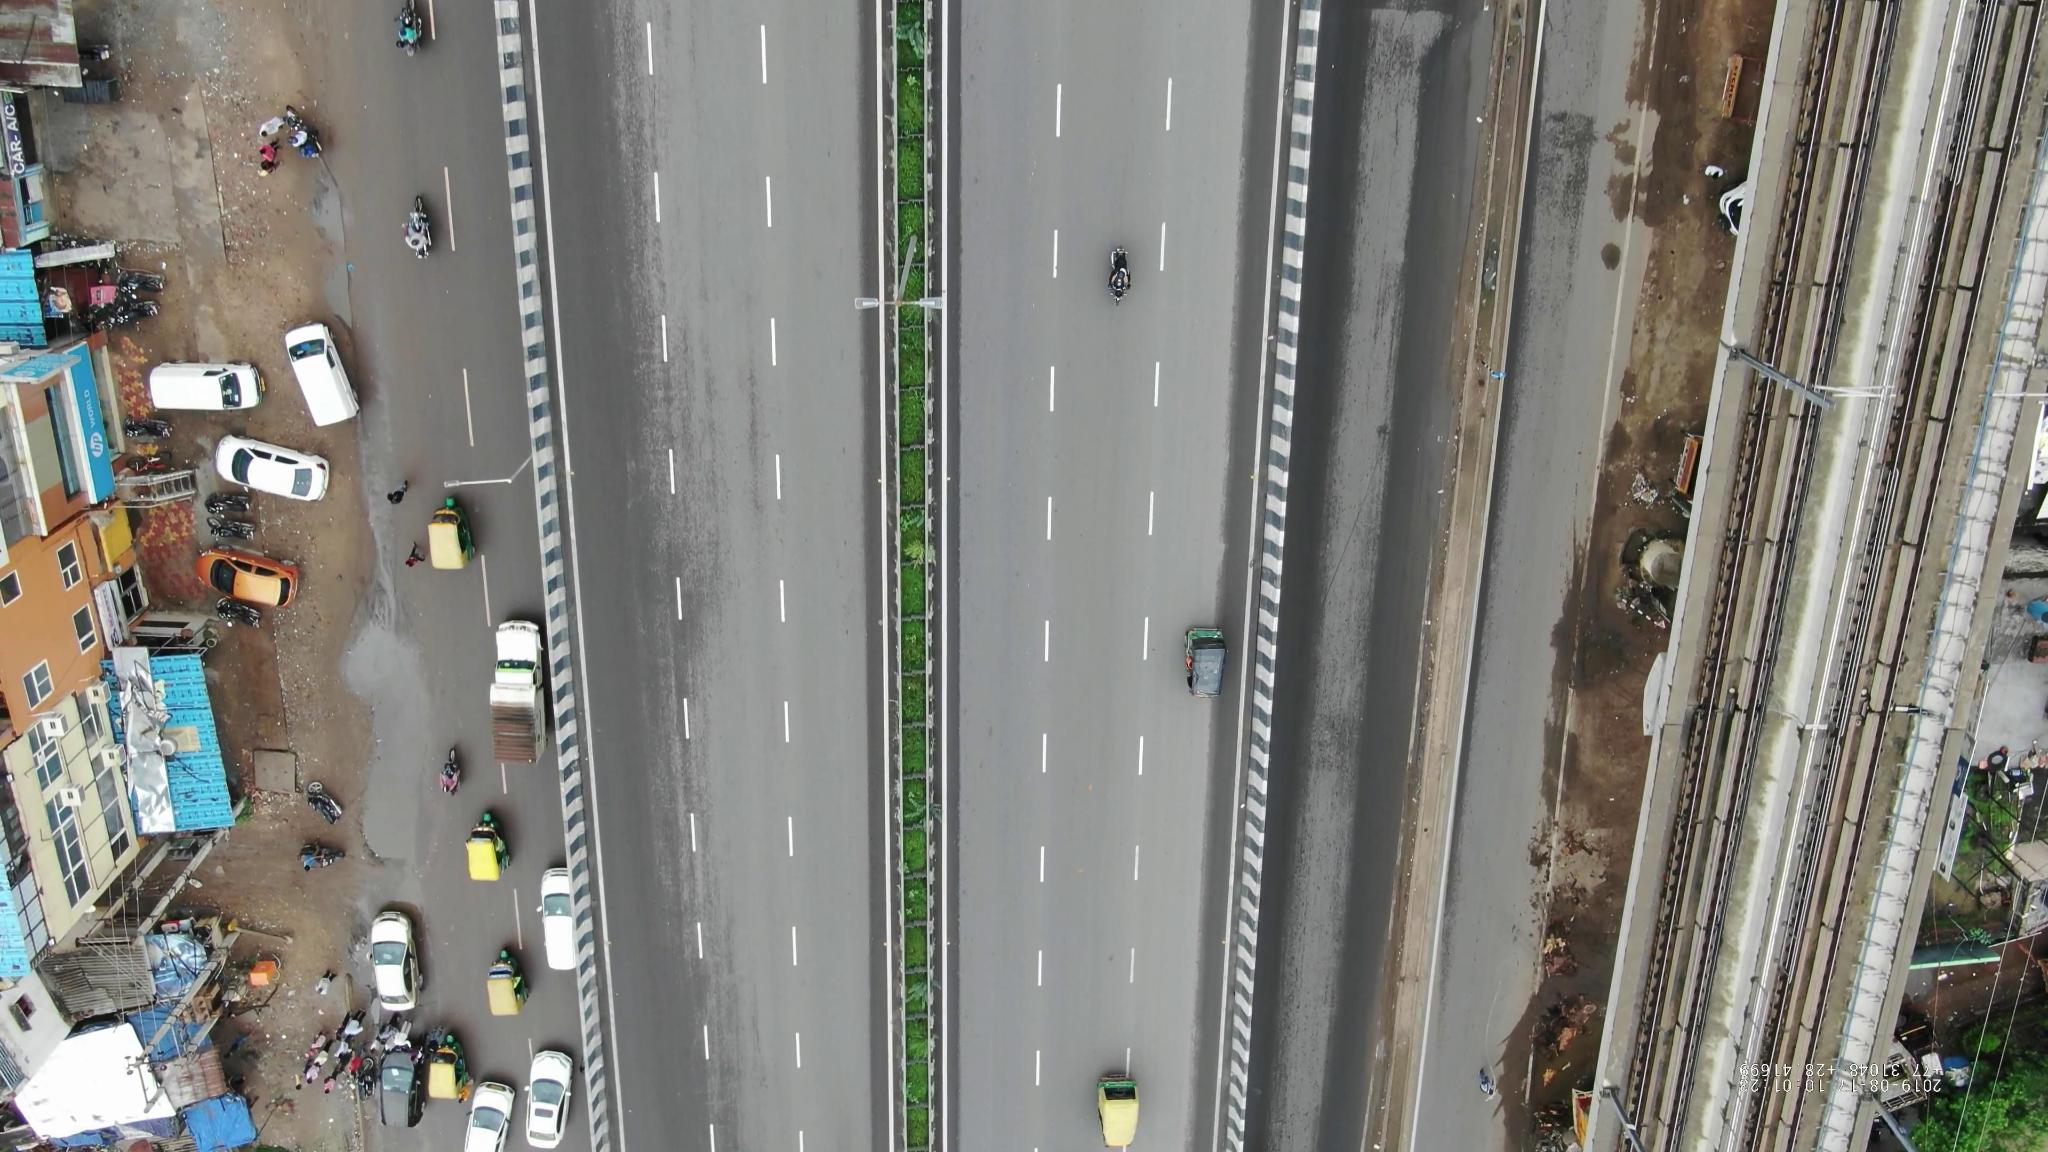Waterlogging: (350, 619, 437, 861)
